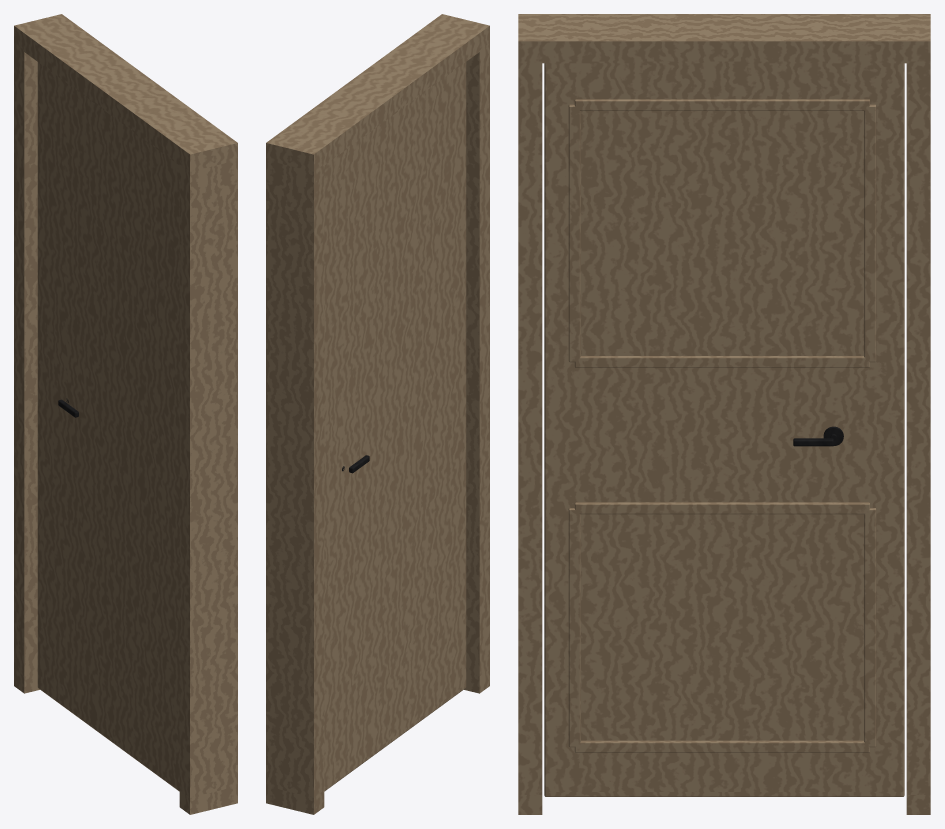
Rendered from ENV_DoorSet.fbx.
3 renders of one model, left to right at view 1: azimuth 30°, elevation 25°; view 2: azimuth 150°, elevation 25°; view 3: azimuth 270°, elevation 25°, orthographic. The views are drawn at different scales.
Visible parts, largest first — view 1: Door_Panel, Door_Frame; view 2: Door_Panel, Door_Frame; view 3: Door_Panel, Door_Frame.
Boxes of the visible parts, x1,y1,x2,y2 form: Door_Panel: (37, 62, 179, 791); Door_Frame: (14, 14, 237, 814); Door_Panel: (324, 62, 466, 791); Door_Frame: (266, 14, 489, 814); Door_Panel: (544, 63, 904, 796); Door_Frame: (518, 14, 930, 814).
Bounding box in the file's own units: 16 × 211 × 102.
